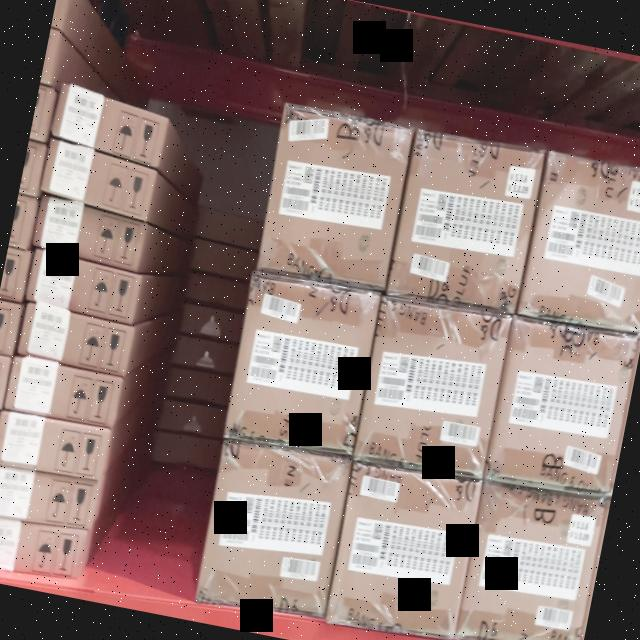box: (252, 100, 416, 290), (194, 433, 353, 621), (388, 129, 546, 314), (224, 272, 382, 456), (324, 460, 484, 640), (483, 315, 640, 496), (355, 290, 511, 470), (454, 478, 610, 640), (516, 150, 640, 339), (51, 82, 170, 166), (22, 248, 142, 330), (39, 136, 157, 216), (4, 351, 124, 428), (30, 193, 146, 272), (0, 407, 110, 488), (15, 302, 130, 374), (0, 462, 100, 539), (0, 515, 85, 583)
